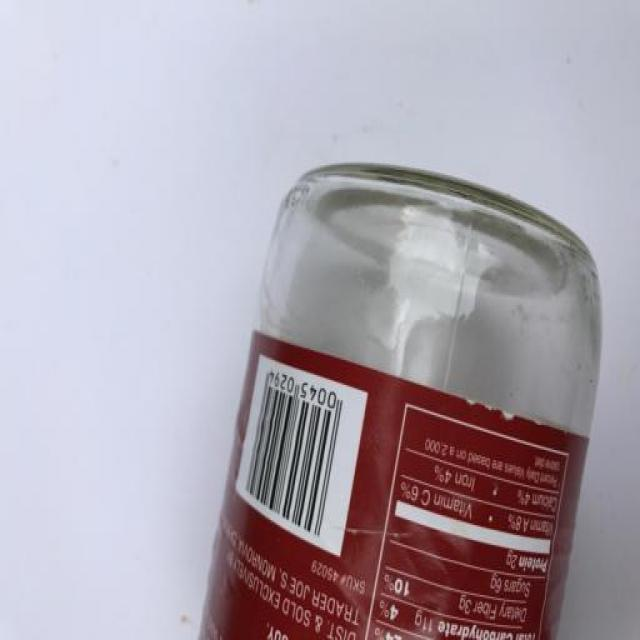Waste: (201, 163, 602, 639)
